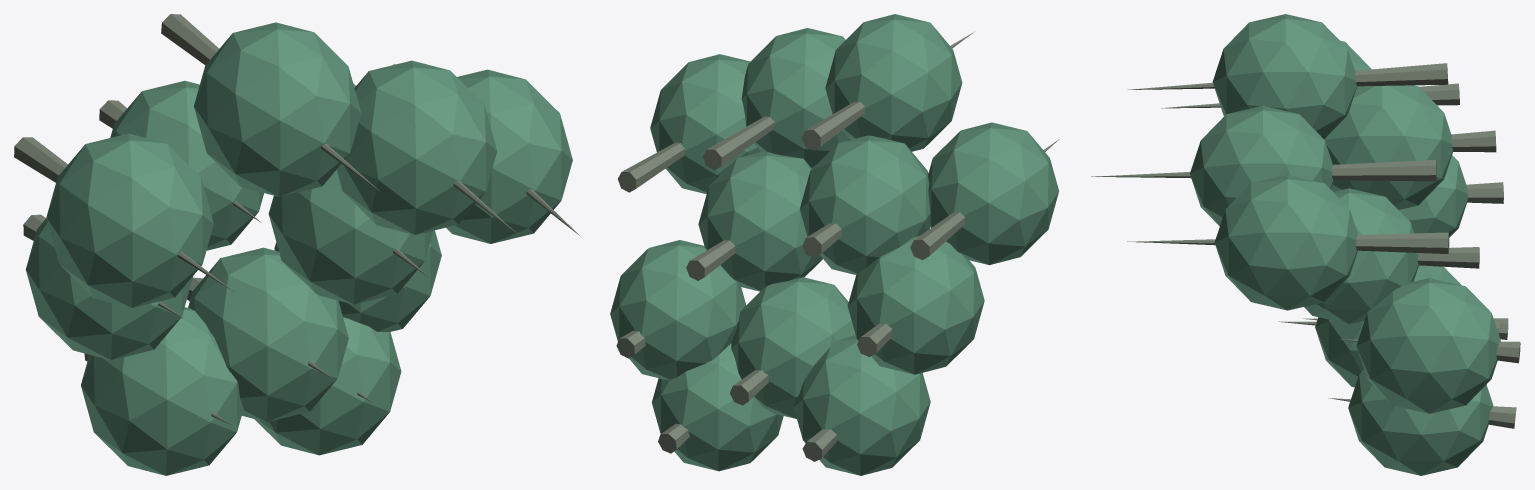
File: VP_PROTOTYPE_SHRUB.glb
3 views of the same model, side by side, from view 1: azimuth 30°, elevation 25°; view 2: azimuth 150°, elevation 25°; view 3: azimuth 270°, elevation 25° (orthographic). The views are drawn at different scales.
Parts seen in each view (by area): view 1: world; view 2: world; view 3: world.
Boxes of the visible parts, <box> form: world: <box>14,14,581,475</box>; world: <box>610,14,1059,475</box>; world: <box>1091,14,1520,475</box>.
Size of the model in its own units: 1.39 by 1.4 by 1.36.
